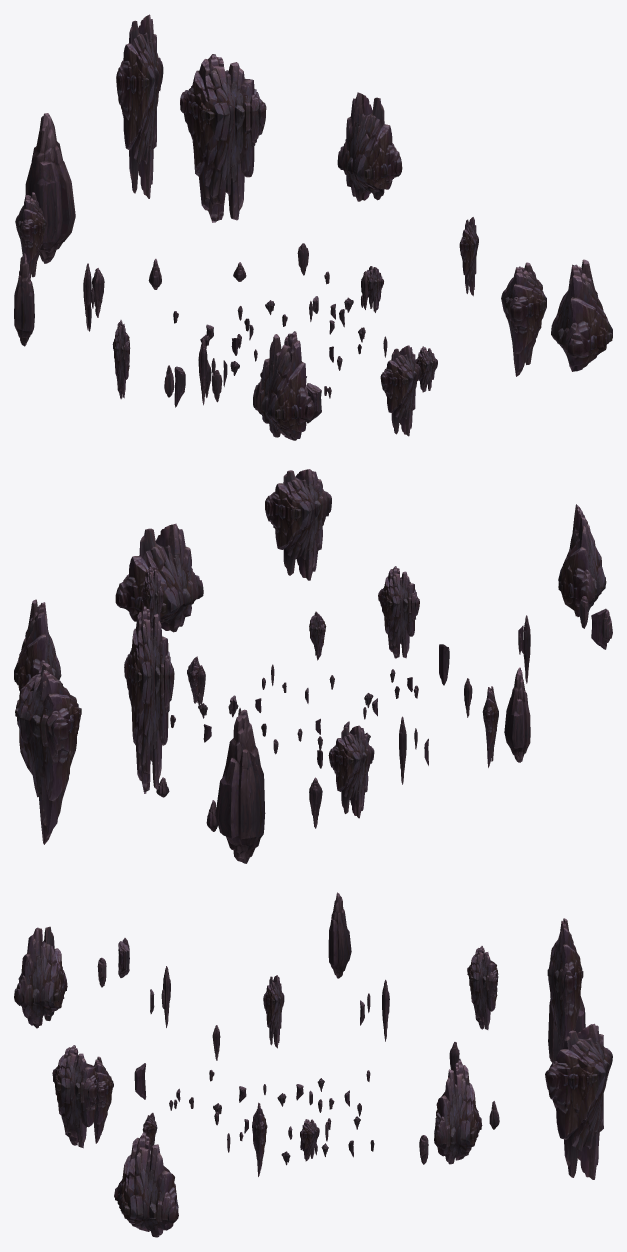
The model's file is island.glb.
3 renders of one model, top to bottom at view 1: azimuth 30°, elevation 25°; view 2: azimuth 150°, elevation 25°; view 3: azimuth 270°, elevation 25°, orthographic. The views are drawn at different scales.
Visible parts, largest first — view 1: island.019, island.052, island.026, island.001, island.055, island.064, island.013, island.042, island.016, island.048, island.028, island.027 (+1 smaller); view 2: island.019, island.052, island.064, island.055, island.013, island.001, island.016, island.042, island.026, island.048, island.028, island.027 (+1 smaller); view 3: island.019, island.064, island.001, island.026, island.013, island.052, island.016, island.048, island.027, island.042, island.028, island.055 (+1 smaller).
Part boxes in pixels (left/top/right/bottom): island.019: left=180, top=54, right=266, bottom=222; island.052: left=116, top=14, right=163, bottom=198; island.026: left=337, top=92, right=402, bottom=201; island.001: left=253, top=331, right=314, bottom=440; island.055: left=25, top=113, right=75, bottom=263; island.064: left=551, top=259, right=612, bottom=371; island.013: left=501, top=262, right=546, bottom=376; island.042: left=380, top=345, right=420, bottom=436; island.016: left=15, top=192, right=46, bottom=277; island.048: left=14, top=253, right=34, bottom=346; island.028: left=459, top=217, right=478, bottom=296; island.027: left=112, top=320, right=130, bottom=399; island.019: left=15, top=663, right=81, bottom=844; island.052: left=124, top=605, right=174, bottom=793; island.064: left=115, top=523, right=203, bottom=632; island.055: left=215, top=709, right=265, bottom=863; island.013: left=265, top=469, right=331, bottom=580; island.001: left=558, top=504, right=606, bottom=619; island.016: left=329, top=725, right=374, bottom=818; island.042: left=378, top=566, right=419, bottom=658; island.026: left=14, top=599, right=61, bottom=690; island.048: left=504, top=667, right=530, bottom=762; island.028: left=141, top=566, right=163, bottom=627; island.027: left=482, top=686, right=498, bottom=767; island.019: left=545, top=1023, right=612, bottom=1179; island.064: left=114, top=1132, right=178, bottom=1237; island.001: left=14, top=926, right=67, bottom=1028; island.026: left=434, top=1059, right=482, bottom=1164; island.013: left=52, top=1045, right=98, bottom=1148; island.052: left=547, top=918, right=583, bottom=1050; island.016: left=467, top=946, right=498, bottom=1029; island.048: left=328, top=892, right=351, bottom=978; island.027: left=263, top=975, right=284, bottom=1048; island.042: left=93, top=1056, right=113, bottom=1143; island.028: left=252, top=1102, right=267, bottom=1176; island.055: left=548, top=996, right=585, bottom=1062.
Bounding box in the file's own units: 456 × 212 × 517.
4 materials, 4 textured.
